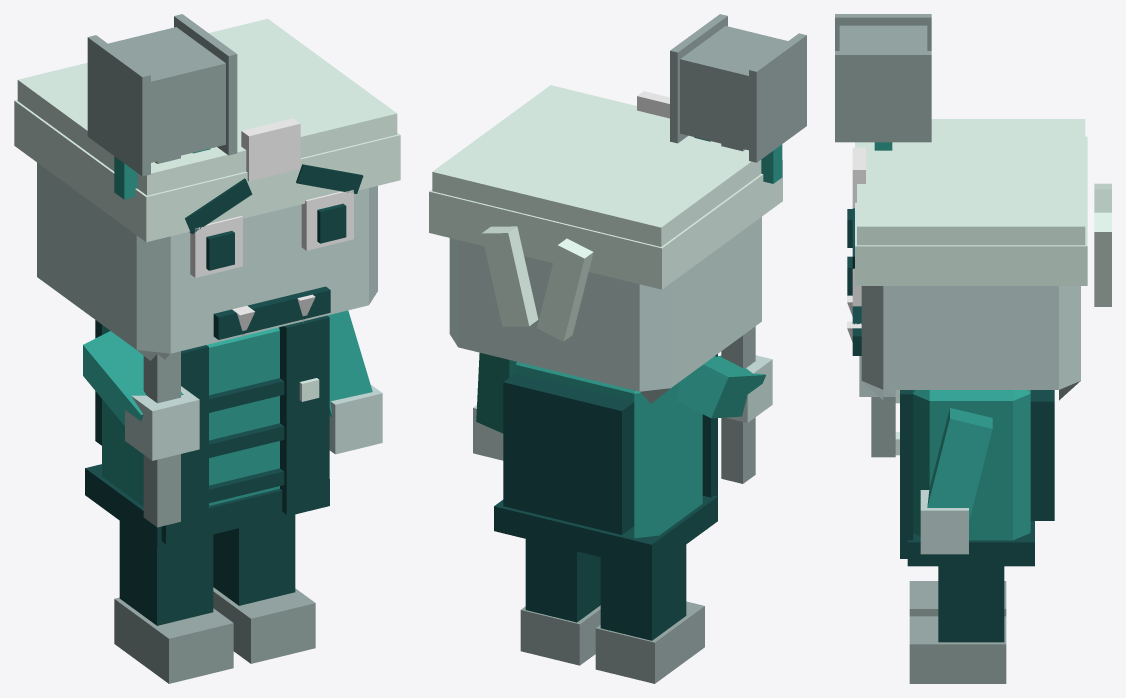
File: weakener_r14.glb
The picture shows the model from 3 angles, left to right: view 1: azimuth 30°, elevation 25°; view 2: azimuth 150°, elevation 25°; view 3: azimuth 270°, elevation 25°; orthographic projection. The views are drawn at different scales.
Visible parts, largest first — view 1: weakener_r14_mesh; view 2: weakener_r14_mesh; view 3: weakener_r14_mesh.
Boxes of the visible parts, bbox=[...] form: weakener_r14_mesh: bbox=[14, 14, 400, 683]; weakener_r14_mesh: bbox=[429, 14, 806, 683]; weakener_r14_mesh: bbox=[835, 14, 1111, 683].
Size of the model in its own units: 0.7393 by 1.6 by 0.6952.
1 material, 1 textured.
